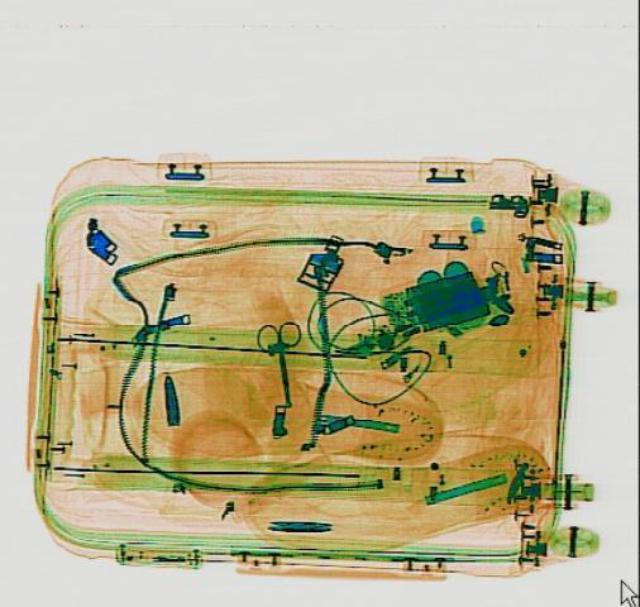Scissors: (250, 319, 310, 404)
